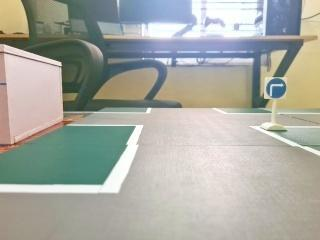right: (261, 72, 292, 104)
